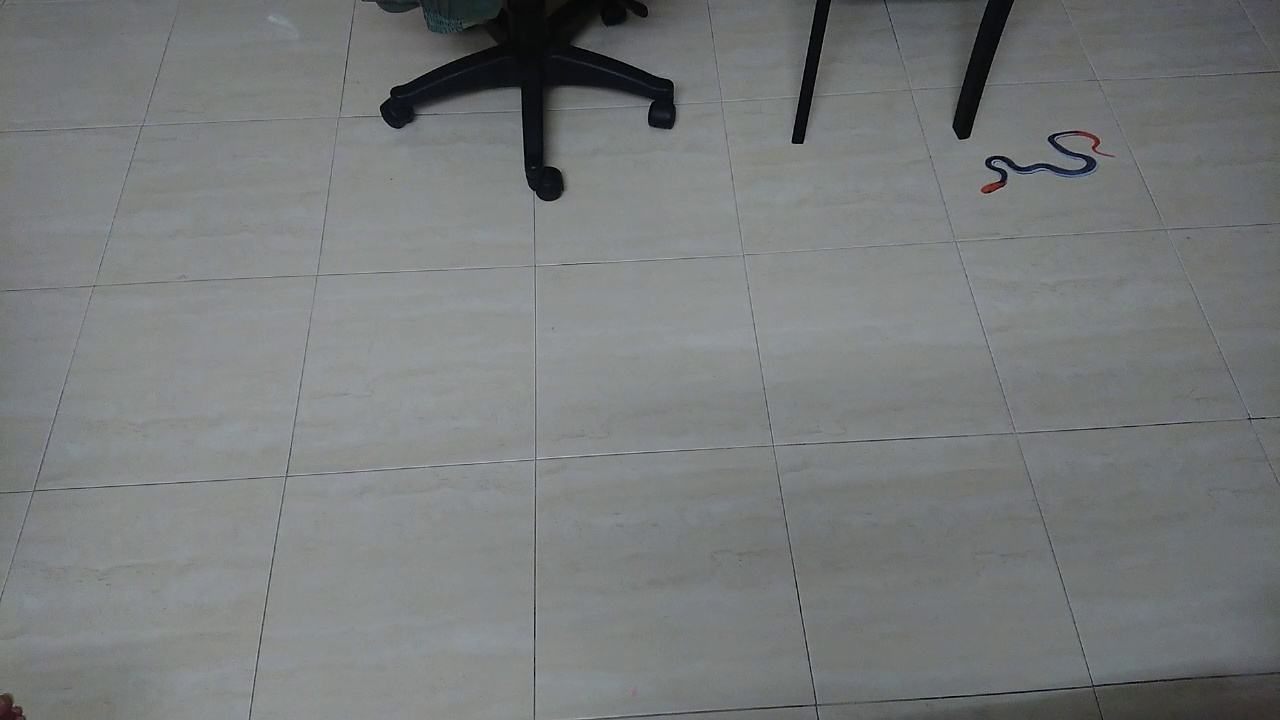snake: (965, 118, 1122, 206)
